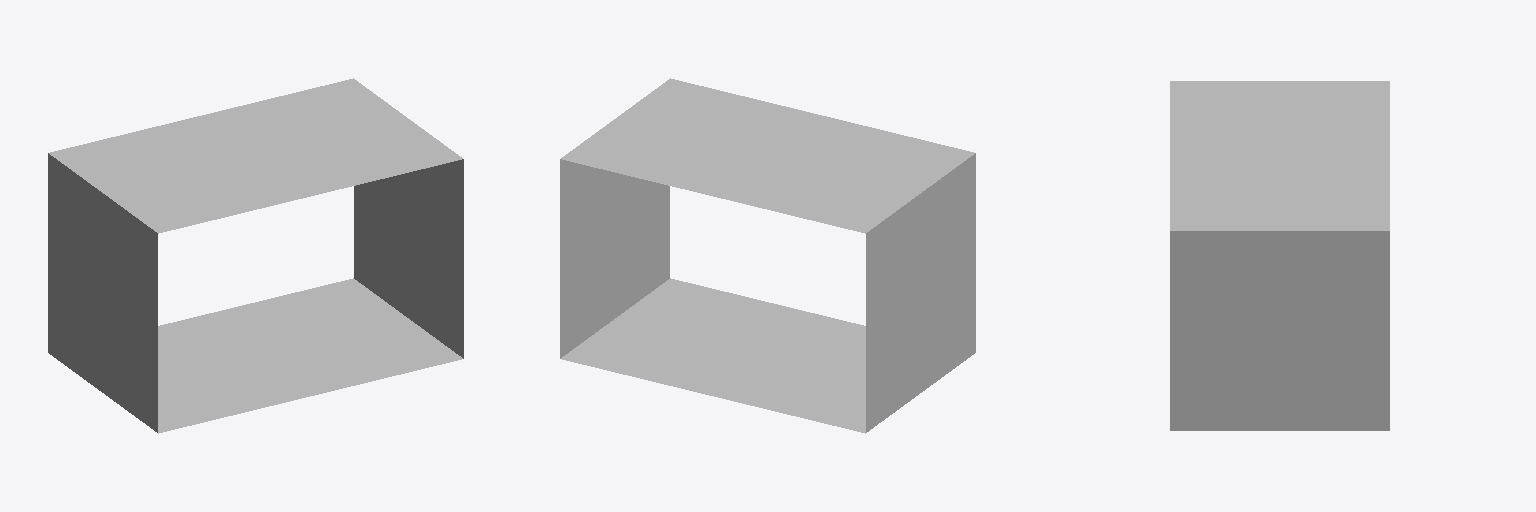
Rendered from original-11.obj.
3 renders of one model, left to right at view 1: azimuth 30°, elevation 25°; view 2: azimuth 150°, elevation 25°; view 3: azimuth 270°, elevation 25°, orthographic.
Visible parts, largest first — view 1: #ID103; view 2: #ID103; view 3: #ID103.
Boxes of the visible parts, box(x1,y1,x2,y2) form: #ID103: box(48, 78, 463, 433); #ID103: box(560, 78, 975, 433); #ID103: box(1170, 81, 1389, 430).
Bounding box in the file's own units: 0.095 × 0.0593 × 0.0593.